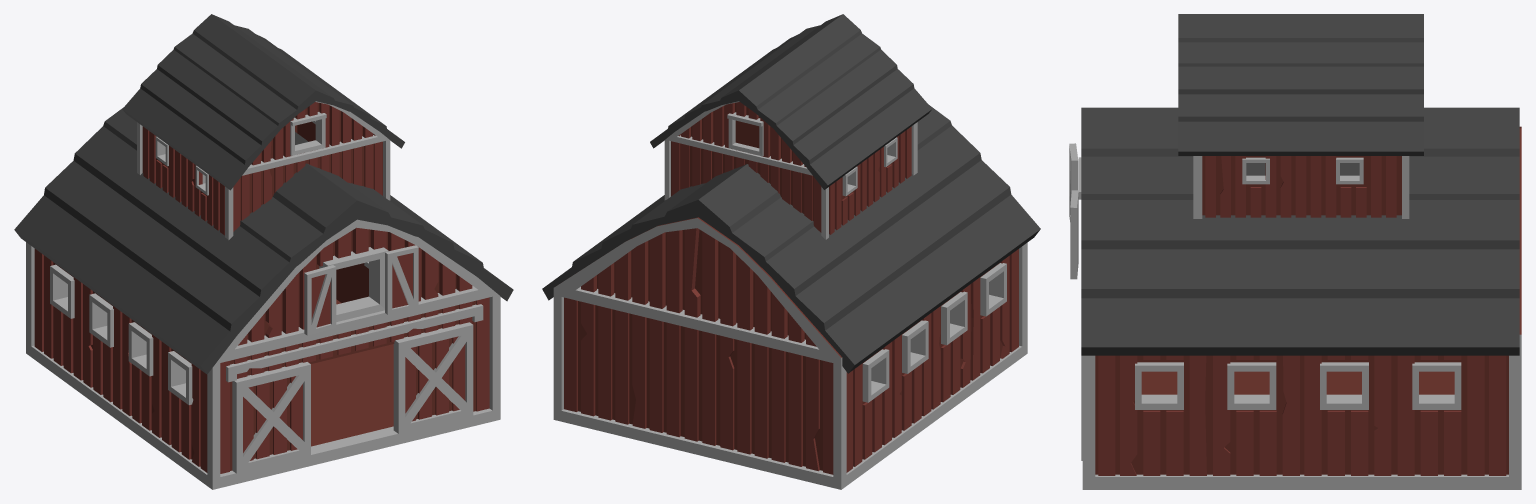
The model's file is BigBarn.glb.
3 renders of one model, left to right at view 1: azimuth 30°, elevation 25°; view 2: azimuth 150°, elevation 25°; view 3: azimuth 270°, elevation 25°, orthographic. The views are drawn at different scales.
Visible parts, largest first — view 1: BigBarn_Body; view 2: BigBarn_Body; view 3: BigBarn_Body.
Boxes of the visible parts, box(x1,y1,x2,y2) form: BigBarn_Body: box(14, 14, 513, 489); BigBarn_Body: box(542, 14, 1040, 489); BigBarn_Body: box(1069, 14, 1521, 489).
Bounding box in the file's own units: 7.73 × 7.89 × 8.22.
